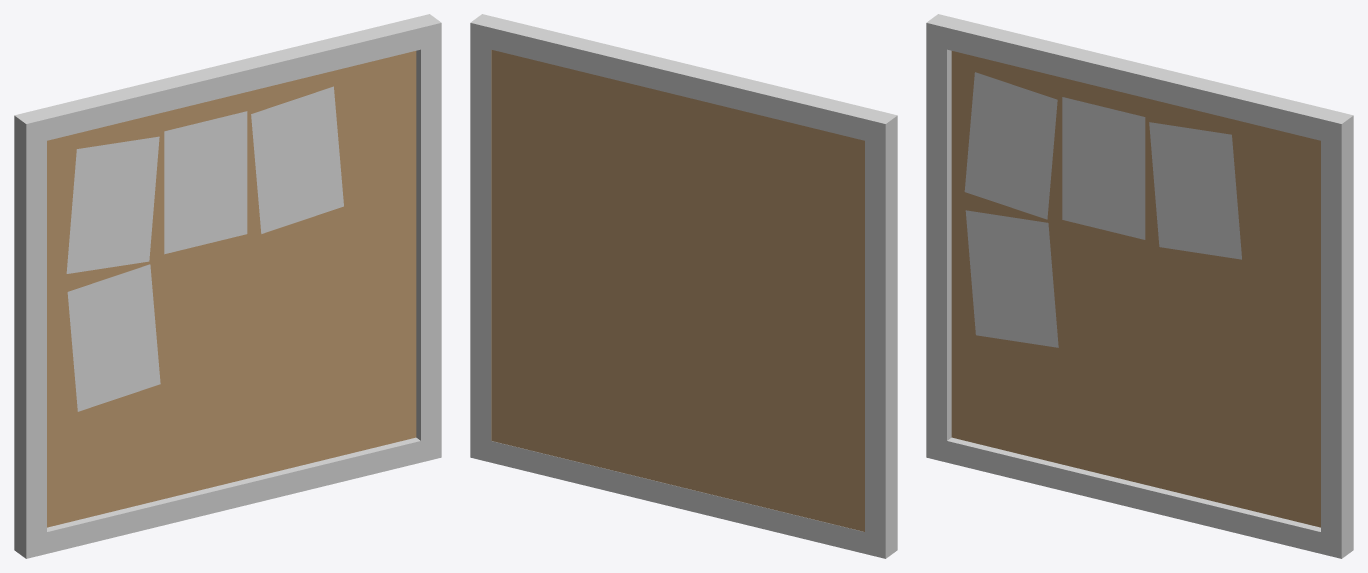
File: NoticeBoard.glb
The picture shows the model from 3 angles, left to right: view 1: azimuth 30°, elevation 25°; view 2: azimuth 150°, elevation 25°; view 3: azimuth 330°, elevation 25°; orthographic projection.
Parts seen in each view (by area): view 1: NoticeBoardWood, NoticeBoardFrame, Poster2, Poster1, Poster4, Poster3; view 2: NoticeBoardWood, NoticeBoardFrame; view 3: NoticeBoardWood, NoticeBoardFrame, Poster2, Poster4, Poster3, Poster1.
Part boxes in pixels (x1=…): NoticeBoardWood: x1=47, y1=51, x2=416, y2=527; NoticeBoardFrame: x1=14, y1=14, x2=441, y2=558; Poster2: x1=164, y1=111, x2=247, y2=254; Poster1: x1=66, y1=136, x2=159, y2=273; Poster4: x1=67, y1=264, x2=160, y2=411; Poster3: x1=251, y1=86, x2=343, y2=233; NoticeBoardWood: x1=491, y1=49, x2=864, y2=531; NoticeBoardFrame: x1=470, y1=14, x2=897, y2=558; NoticeBoardWood: x1=951, y1=51, x2=1320, y2=527; NoticeBoardFrame: x1=926, y1=14, x2=1353, y2=558; Poster2: x1=1062, y1=97, x2=1145, y2=239; Poster4: x1=965, y1=210, x2=1058, y2=347; Poster3: x1=1149, y1=122, x2=1241, y2=259; Poster1: x1=964, y1=72, x2=1057, y2=219.
Bounding box in the file's own units: 2 × 2 × 0.108.
